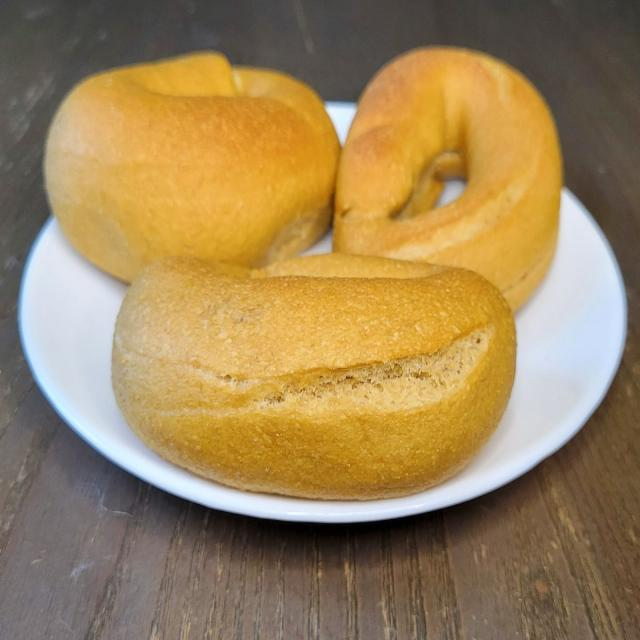Bagel: (112, 255, 516, 500), (45, 52, 340, 281), (334, 47, 562, 310)
